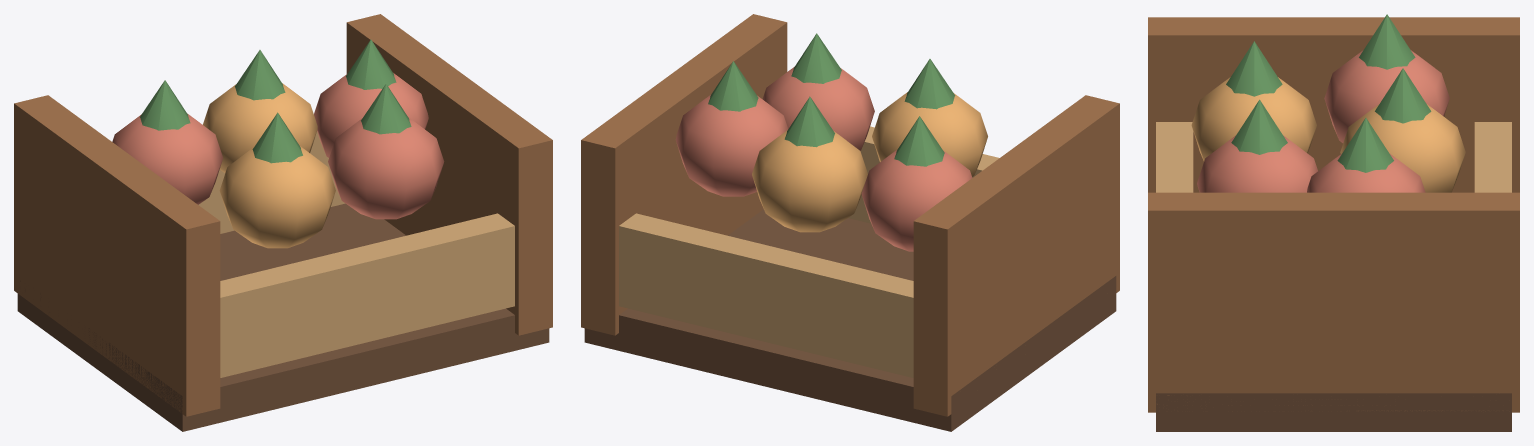
Rendered from produce-crate.glb.
3 views of the same model, side by side, from view 1: azimuth 30°, elevation 25°; view 2: azimuth 150°, elevation 25°; view 3: azimuth 270°, elevation 25° (orthographic). The views are drawn at different scales.
Parts seen in each view (by area): view 1: produce-crate_wood, produce-crate_woodLight, produce-crate_woodDark, produce-crate_fruitRed, produce-crate_fruitOrange, produce-crate_leaf; view 2: produce-crate_wood, produce-crate_woodLight, produce-crate_woodDark, produce-crate_fruitRed, produce-crate_fruitOrange, produce-crate_leaf; view 3: produce-crate_wood, produce-crate_woodDark, produce-crate_fruitRed, produce-crate_fruitOrange, produce-crate_leaf, produce-crate_woodLight.
Part boxes in pixels (<box>): produce-crate_wood: <box>14,14,552,416</box>; produce-crate_woodLight: <box>198,131,514,377</box>; produce-crate_woodDark: <box>17,203,549,431</box>; produce-crate_fruitRed: <box>112,73,444,219</box>; produce-crate_fruitOrange: <box>203,83,335,248</box>; produce-crate_leaf: <box>140,39,411,163</box>; produce-crate_wood: <box>581,14,1119,416</box>; produce-crate_woodLight: <box>619,126,999,377</box>; produce-crate_woodDark: <box>584,209,1116,431</box>; produce-crate_fruitRed: <box>675,66,972,251</box>; produce-crate_fruitOrange: <box>752,92,987,232</box>; produce-crate_leaf: <box>708,33,955,166</box>; produce-crate_wood: <box>1148,17,1519,412</box>; produce-crate_woodDark: <box>1156,393,1511,431</box>; produce-crate_fruitRed: <box>1197,50,1449,192</box>; produce-crate_fruitOrange: <box>1191,77,1465,192</box>; produce-crate_leaf: <box>1226,14,1431,172</box>; produce-crate_woodLight: <box>1156,122,1511,192</box>.
Size of the model in its own units: 0.86 by 0.565 by 0.7.
